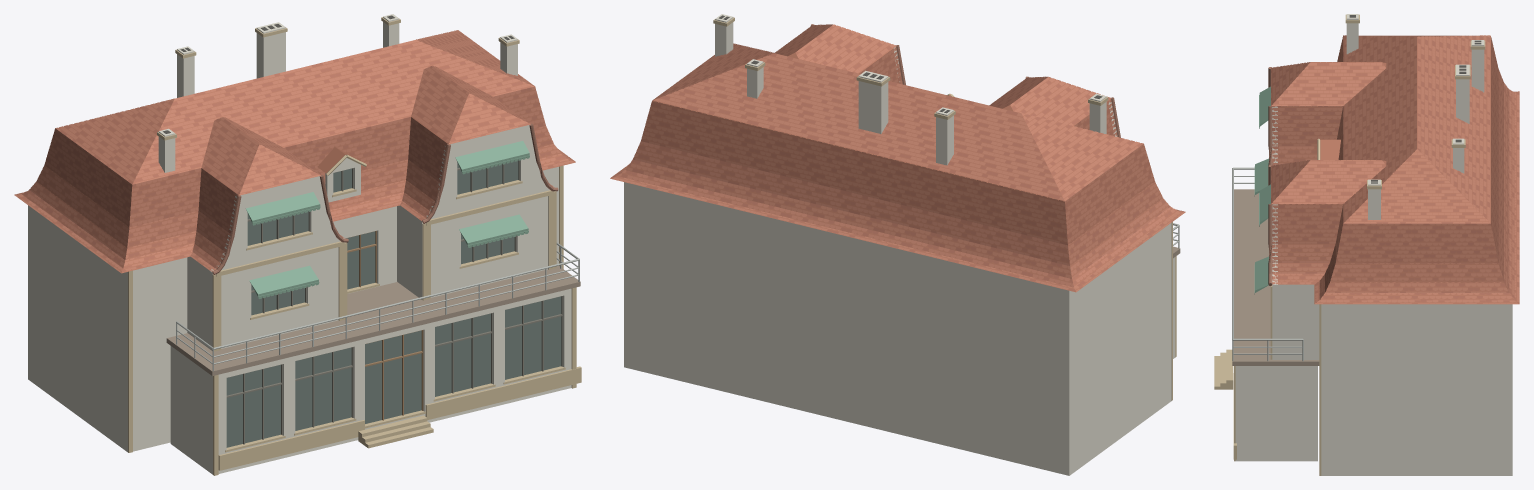
Rendered from xuhui-yueyang-road-145-residence-raw.glb.
3 renders of one model, left to right at view 1: azimuth 30°, elevation 25°; view 2: azimuth 150°, elevation 25°; view 3: azimuth 270°, elevation 25°, orthographic. The views are drawn at different scales.
Visible parts, largest first — view 1: 岳阳路145号花园住宅南立面与折檐红瓦屋顶; view 2: 岳阳路145号花园住宅南立面与折檐红瓦屋顶; view 3: 岳阳路145号花园住宅南立面与折檐红瓦屋顶.
Boxes of the visible parts, x1=… form: 岳阳路145号花园住宅南立面与折檐红瓦屋顶: x1=14, y1=14, x2=581, y2=475; 岳阳路145号花园住宅南立面与折檐红瓦屋顶: x1=610, y1=14, x2=1185, y2=475; 岳阳路145号花园住宅南立面与折檐红瓦屋顶: x1=1214, y1=14, x2=1519, y2=475.
Size of the model in its own units: 21.7 by 14.51 by 13.17.
